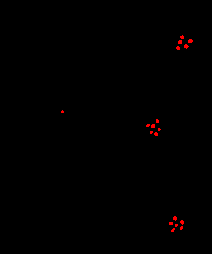Target: (184, 44, 189, 49), (188, 39, 193, 43), (173, 216, 177, 221), (180, 220, 184, 225), (180, 35, 184, 39), (178, 40, 182, 44), (176, 46, 180, 50), (151, 124, 155, 128), (154, 132, 158, 136), (171, 228, 175, 232), (156, 119, 159, 123), (146, 124, 150, 127), (169, 222, 173, 225), (180, 226, 183, 230), (61, 110, 64, 113), (158, 128, 161, 131), (150, 131, 153, 134), (175, 224, 178, 227)
